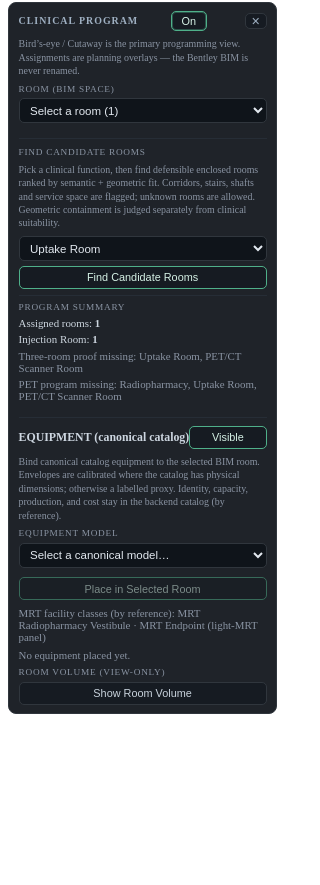
Test case: Build 1A.4 §29 — product containment validation UI (no Developer mode) › Restore Valid Position + Reset to Parent-Derived actions are offered on FAIL
This screenshot has width=320, height=885.
Select "Injection Room 01 — 1DC1 WAITING / ACTIVITY AREA" in the dropdown below "Room (BIM space)" at {"x": 143, "y": 111}, box [19, 98, 267, 123]
(page scrolled)
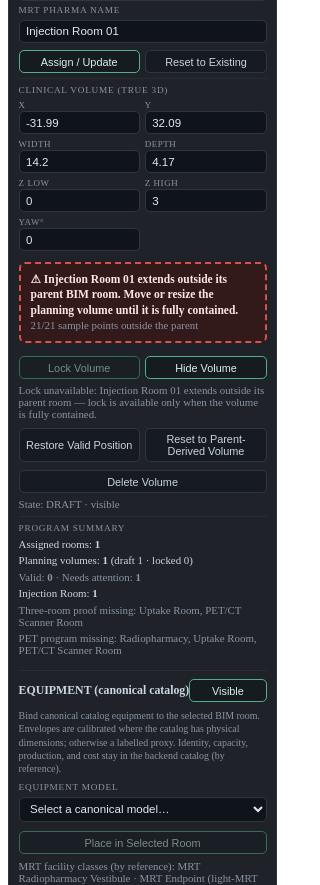
expect the button "Restore Valid Position" is shown: met, box [19, 428, 140, 462]
expect the button "Reset to Parent-Derived Volume" is shown: met, box [145, 428, 267, 462]
